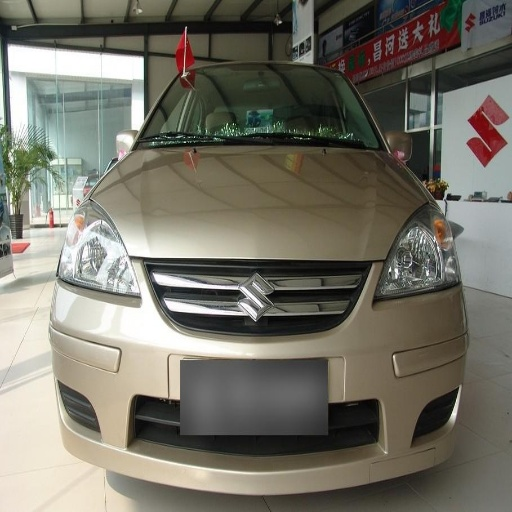front_bumper: (54, 256, 460, 495)
front_right_light: (59, 189, 139, 299)
hood: (93, 146, 428, 259)
